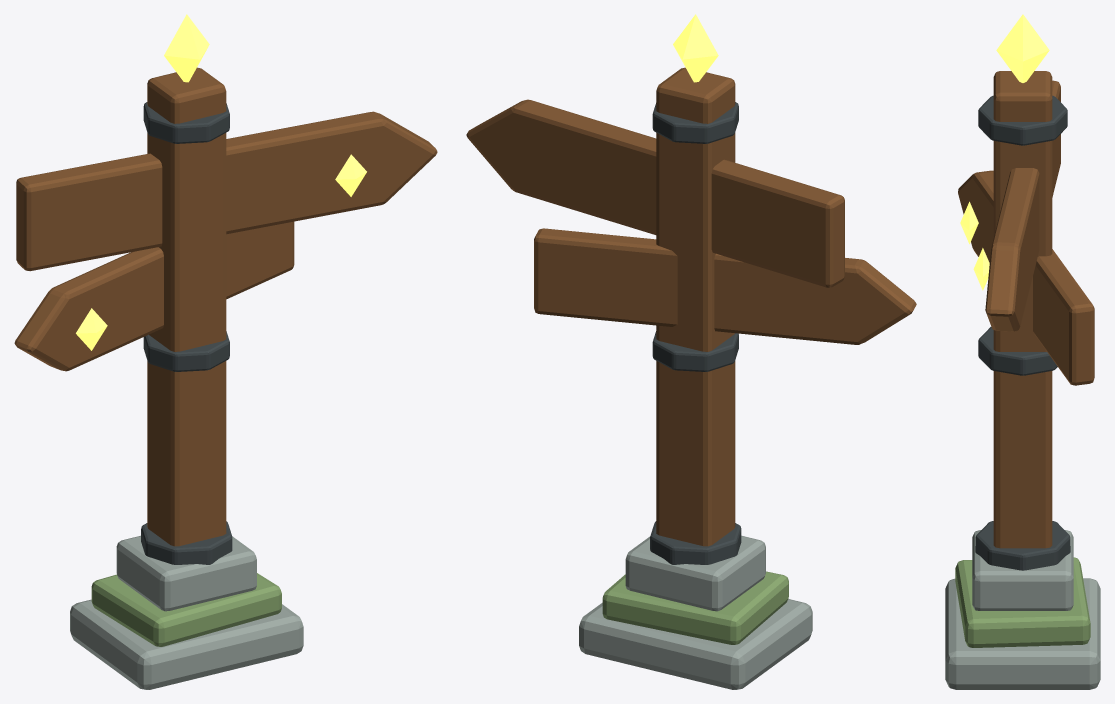
Rendered from SM_EmbermereRoadSignpost_01.fbx.
The picture shows the model from 3 angles, left to right: view 1: azimuth 30°, elevation 25°; view 2: azimuth 150°, elevation 25°; view 3: azimuth 270°, elevation 25°; orthographic projection.
Visible parts, largest first — view 1: SM_EmbermereRoadSignpost_01; view 2: SM_EmbermereRoadSignpost_01; view 3: SM_EmbermereRoadSignpost_01.
Part boxes in pixels (x1=…): SM_EmbermereRoadSignpost_01: x1=14, y1=14, x2=437, y2=689; SM_EmbermereRoadSignpost_01: x1=466, y1=14, x2=916, y2=689; SM_EmbermereRoadSignpost_01: x1=945, y1=14, x2=1100, y2=689.
Size of what is drawn, in the model's own units: 188 by 58 by 264.
